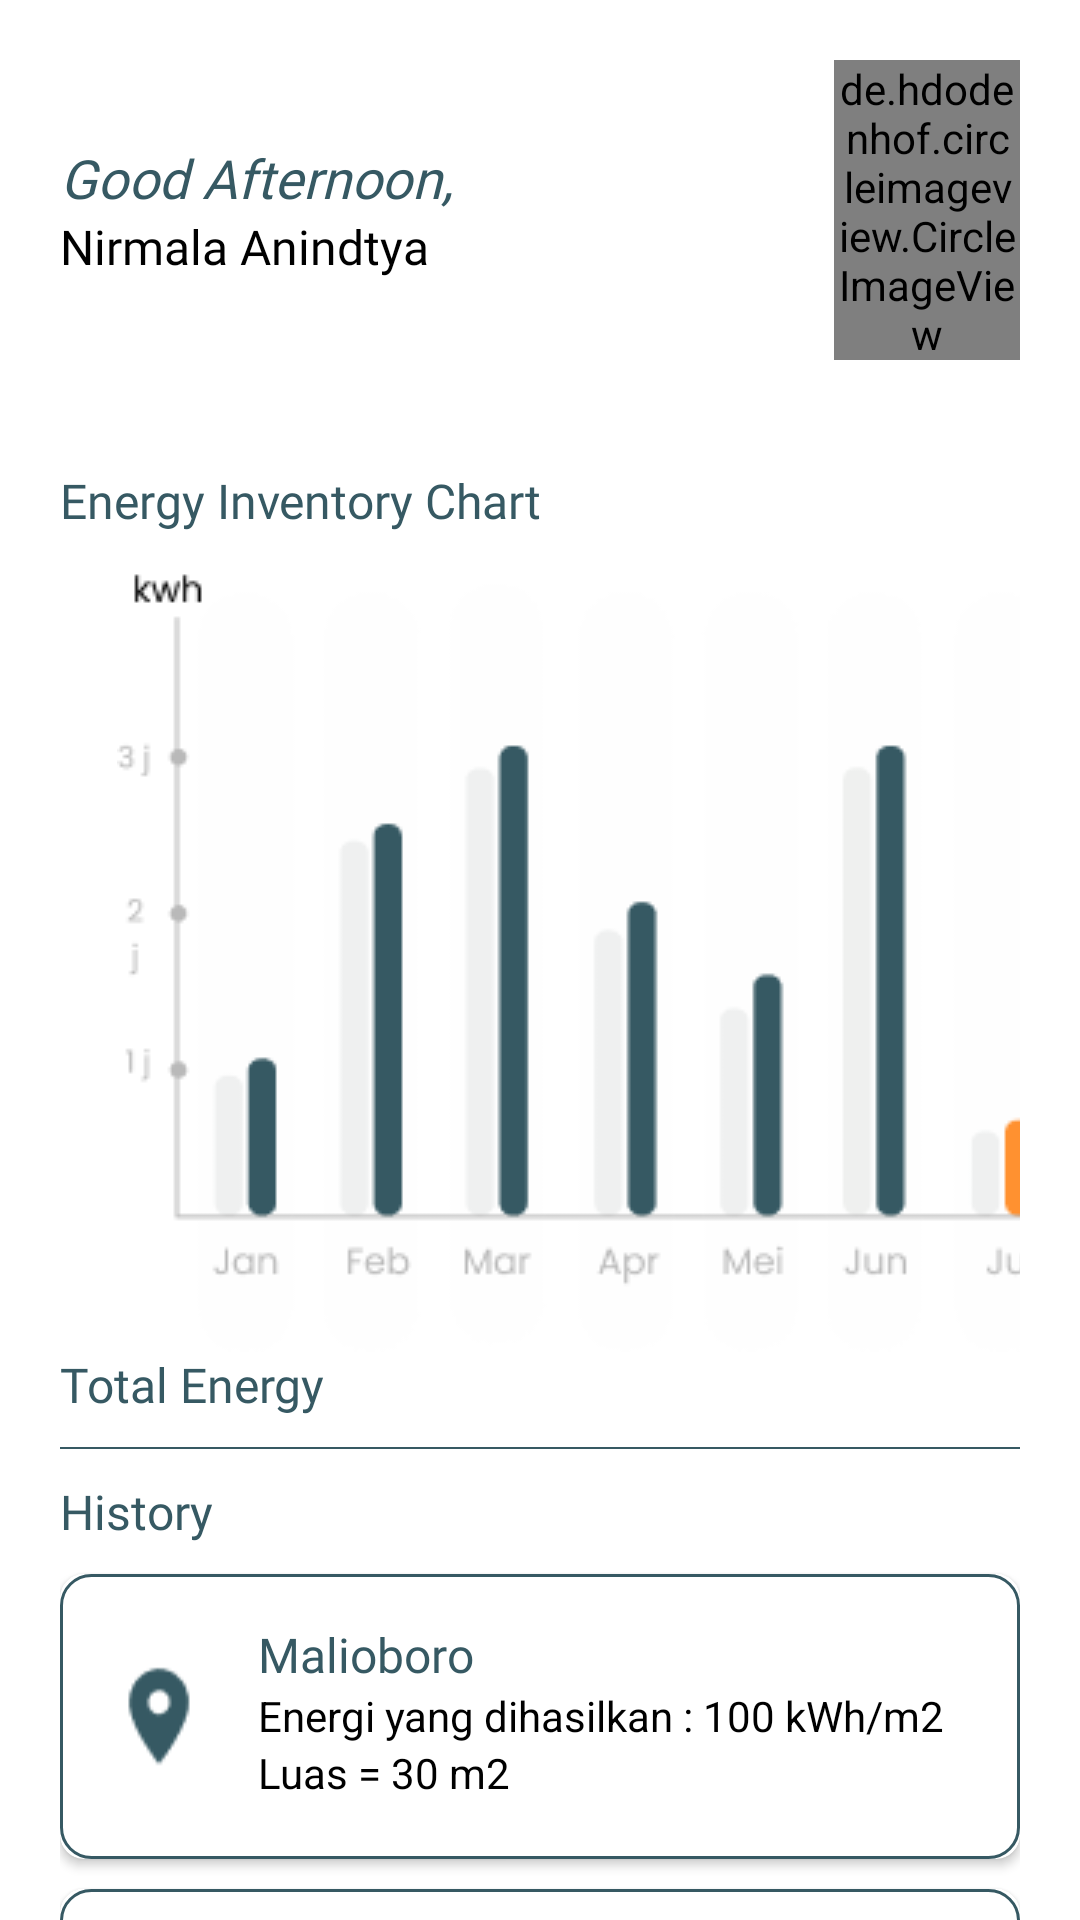

Icons on this 1080w x 1920h Android screen, each with its box as (x1, y1, x2, y2):
loc: (128, 1667, 190, 1765)
